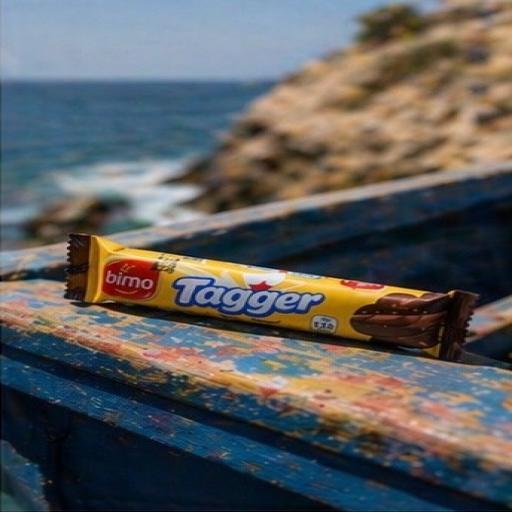tagger: (28, 194, 470, 395)
